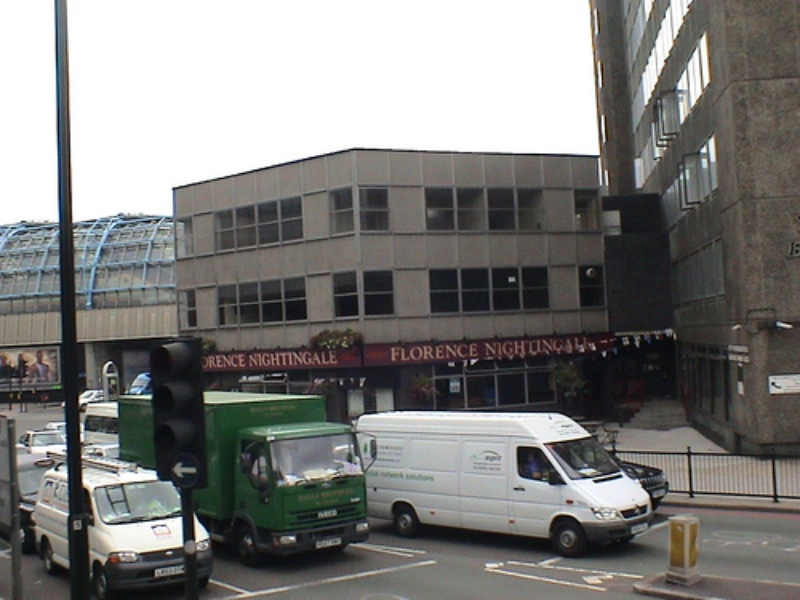car: (119, 389, 368, 565), (357, 410, 652, 557), (32, 457, 212, 597), (16, 428, 67, 453), (61, 389, 104, 411), (124, 373, 153, 395)
